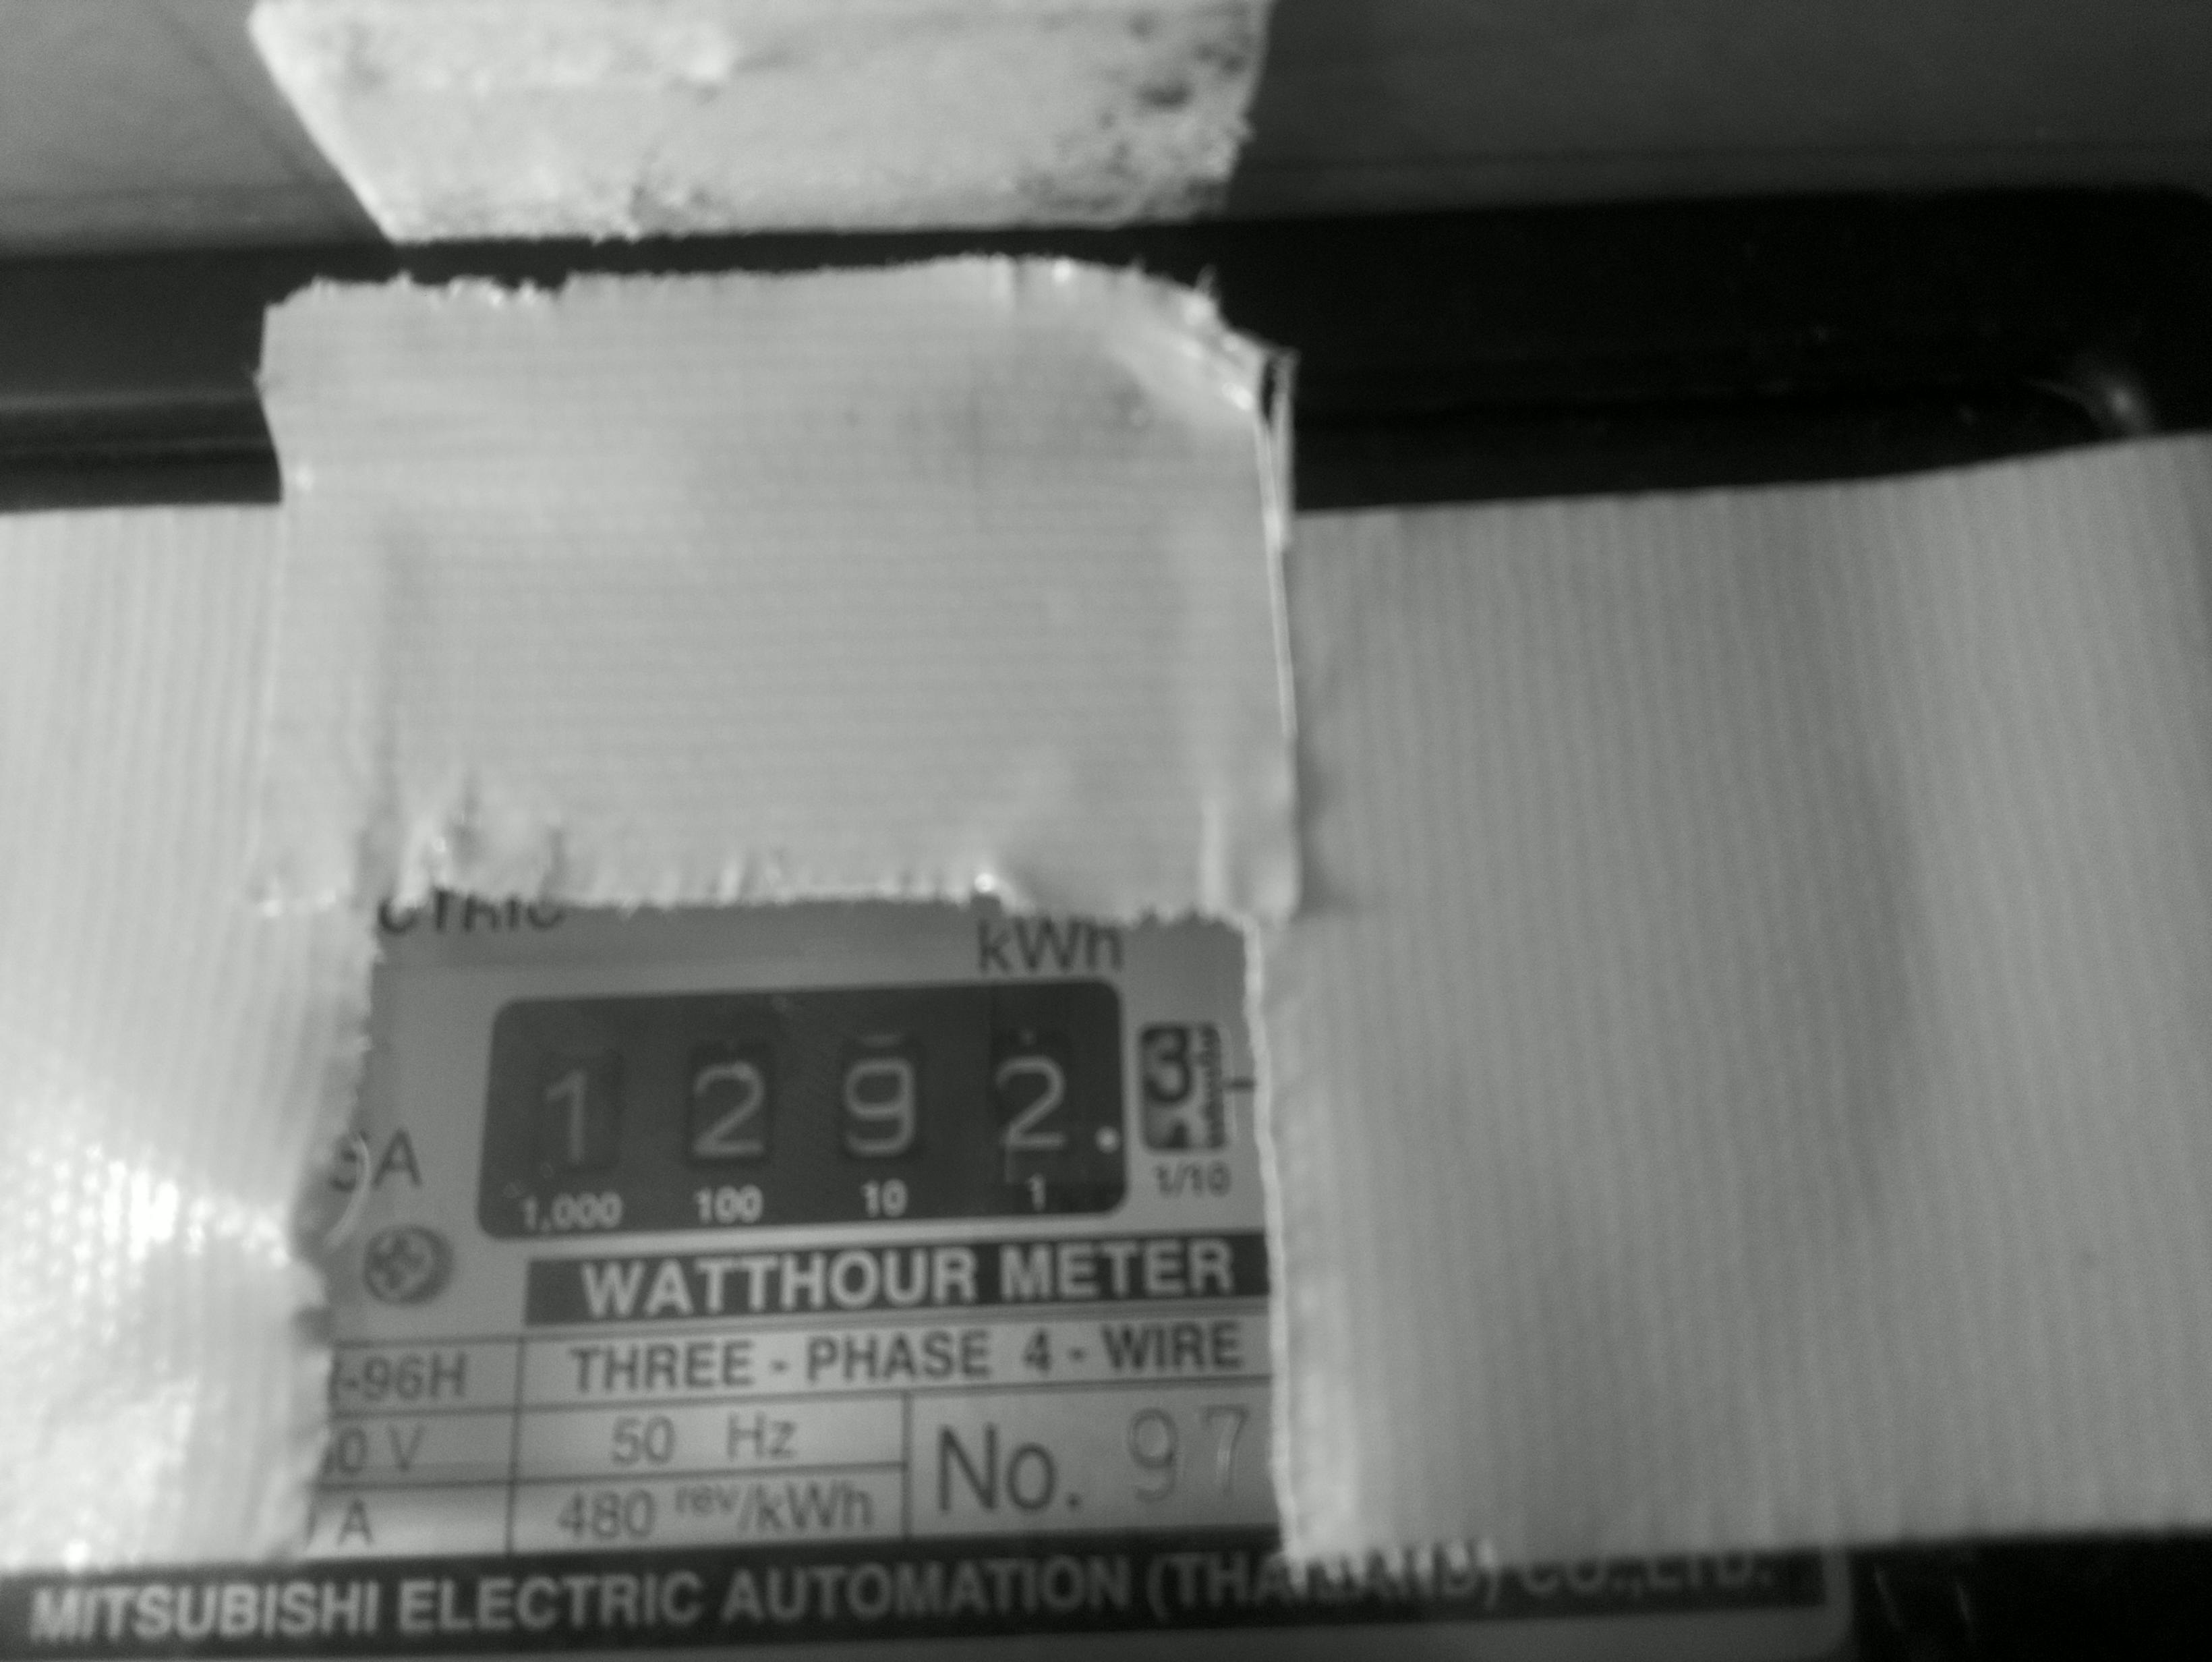meter_box: (452, 965, 1261, 1250)
